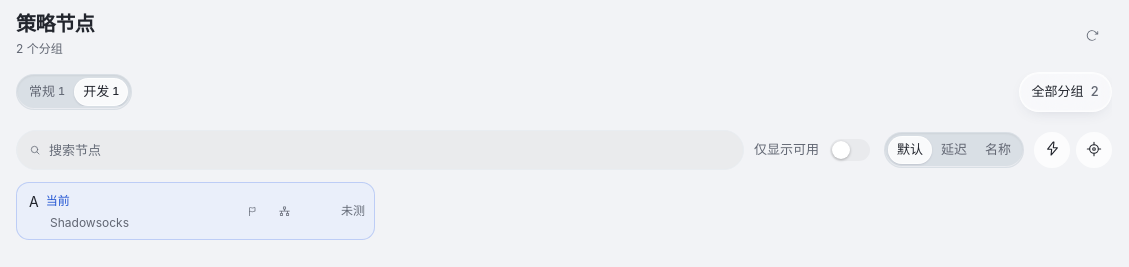
Test: 节点页 在重连后丢弃旧测速回包，并允许再次测速
The image size is (1129, 267).
Earlier steps of the test are not shown.
Expected: the element showing "仅显示可用 默认 延迟 名称 A 当前 Shadowsocks 未测" is shown, [16,122,1112,250]
Click the button named "开发 测速".
click(1052, 150)  # box [1034,132,1070,168]
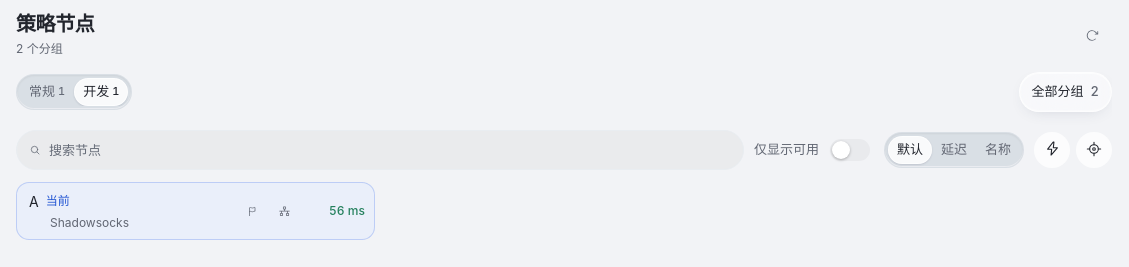
Result: the element showing "仅显示可用 默认 延迟 名称 A 当前 Shadowsocks 56 ms" is shown at [16,122,1112,250]
